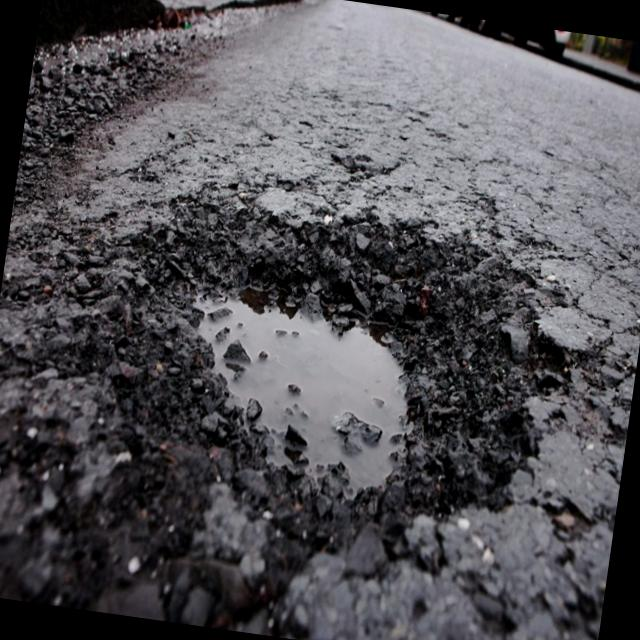bad-road: (0, 156, 592, 640)
